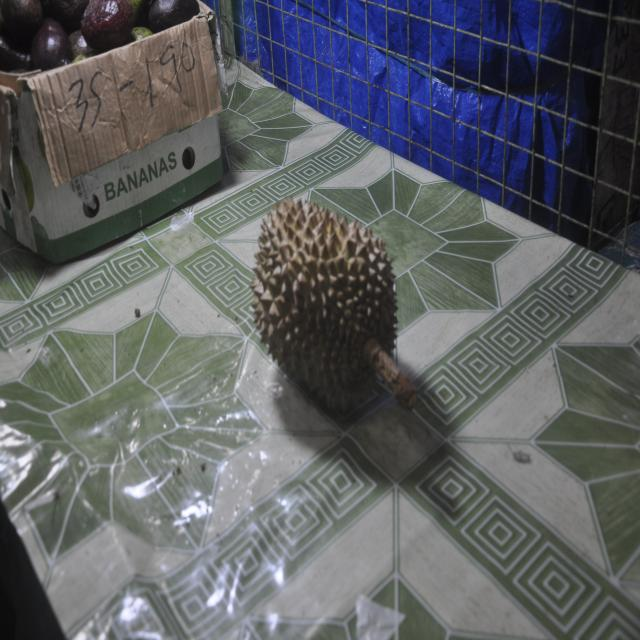mature: (251, 198, 416, 410)
